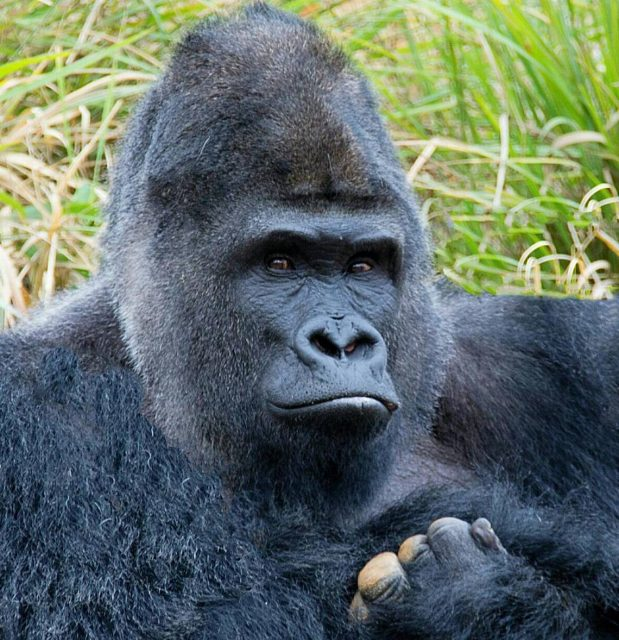Goriila: (25, 12, 615, 640)
